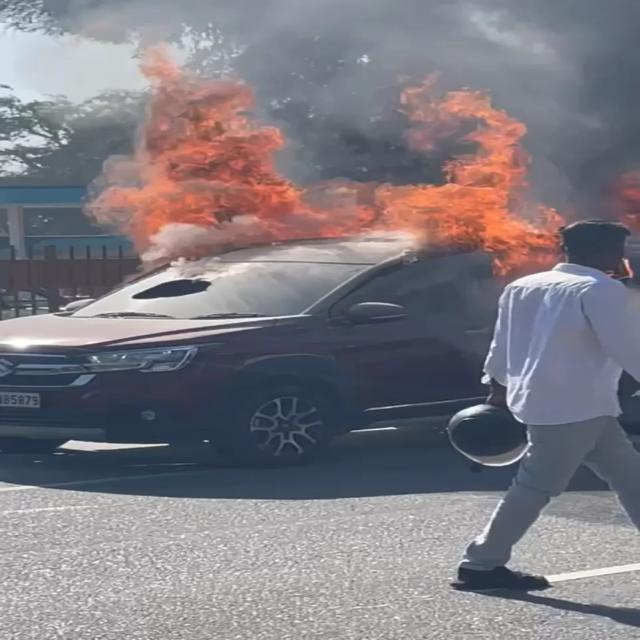fire: (81, 46, 299, 256), (301, 180, 562, 280), (399, 71, 529, 181), (613, 173, 640, 228)
